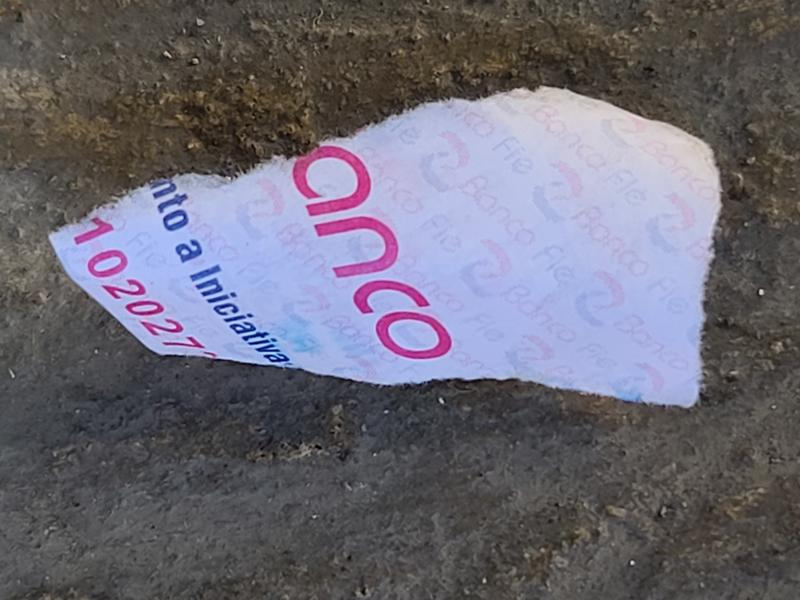papel: (47, 87, 722, 411)
